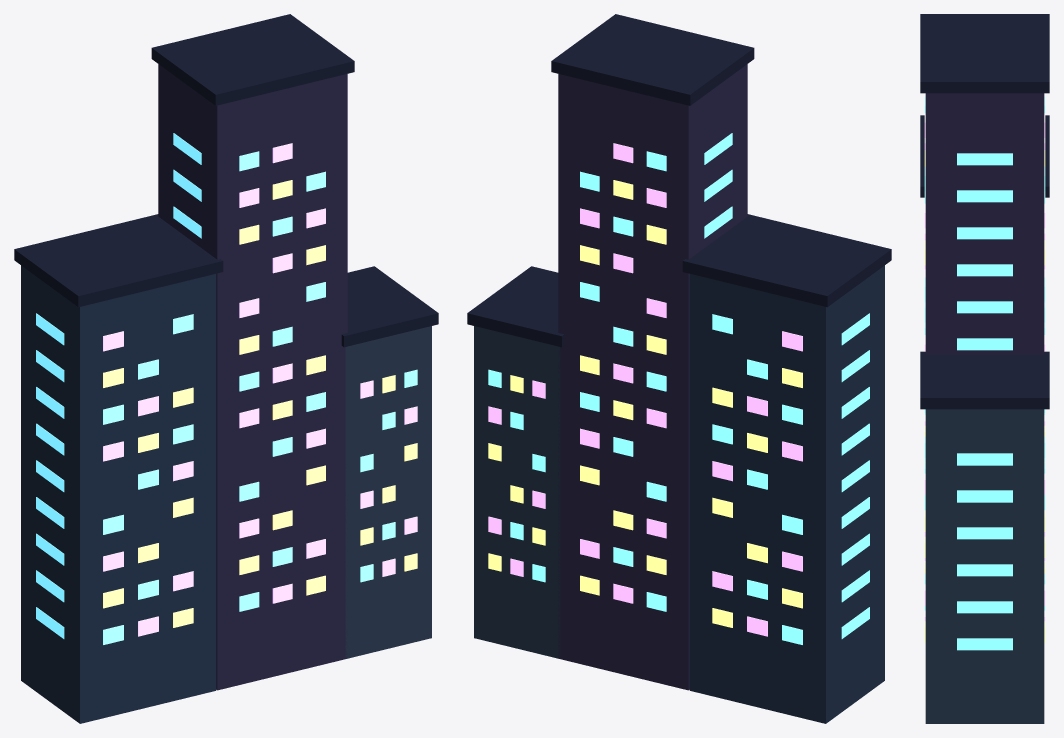
Rendered from glass-towers.glb.
3 views of the same model, side by side, from view 1: azimuth 30°, elevation 25°; view 2: azimuth 150°, elevation 25°; view 3: azimuth 270°, elevation 25° (orthographic).
Parts seen in each view (by area): view 1: glass-towers; view 2: glass-towers; view 3: glass-towers.
Boxes of the visible parts, box(x1,y1,x2,y2) form: glass-towers: box(14, 14, 438, 723); glass-towers: box(467, 14, 891, 723); glass-towers: box(920, 14, 1049, 723).
Size of the model in its own units: 17.97 by 28.53 by 5.55.
